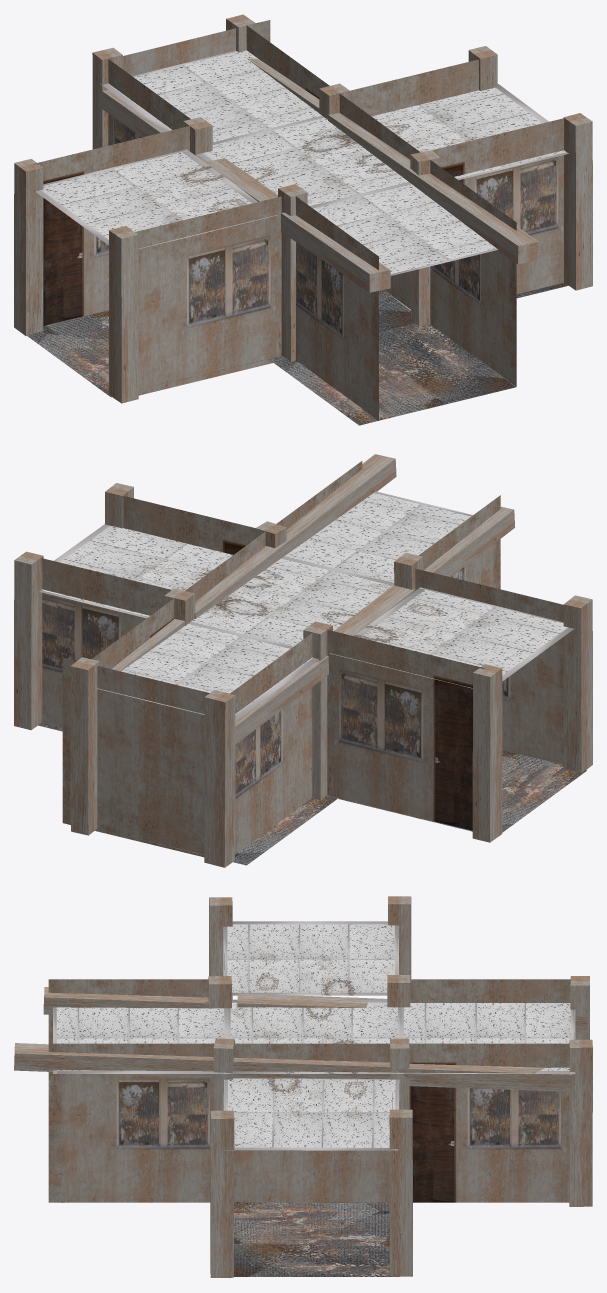
File: left.gltf
The picture shows the model from 3 angles, top to bottom: view 1: azimuth 30°, elevation 25°; view 2: azimuth 150°, elevation 25°; view 3: azimuth 270°, elevation 25°; orthographic projection. The views are drawn at different scales.
Parts seen in each view (by area): view 1: center_left_back_wall.001, front_left_wall, center_right_back_wall, cieling_center_left, floor_front, center_left_back_wall, cieling_center, front_right_wall, cieling_back, cieling_front, cieling_center_right, center_pillar_left.001 (+22 smaller); view 2: center_left_back_wall, back_pannel, back_left_wall, cieling_center_left, center_right_back_wall.001, cieling_center, center_left_back_wall.001, cieling_front, cieling_back, cieling_center_right, back_left_pillar, center_left_pillar.001 (+21 smaller); view 3: front_right_wall, back_right_wall, cieling_center_left, cieling_center_right, floor_center_right, center_right_panel, cieling_back, cieling_center, cieling_front, center_pillar_left.002, front_right_support_beam, center_left_pillar.002 (+14 smaller).
Boxes of the visible parts, left/top/right/bottom form: center_left_back_wall.001: left=135, top=196, right=281, bottom=395; front_left_wall: left=296, top=196, right=378, bottom=420; center_right_back_wall: left=432, top=118, right=563, bottom=293; cieling_center_left: left=35, top=149, right=276, bottom=249; floor_front: left=268, top=323, right=515, bottom=425; center_left_back_wall: left=33, top=126, right=189, bottom=325; cieling_center: left=197, top=116, right=410, bottom=206; front_right_wall: left=430, top=160, right=516, bottom=386; cieling_back: left=100, top=50, right=322, bottom=142; cieling_front: left=311, top=183, right=498, bottom=275; cieling_center_right: left=371, top=83, right=568, bottom=180; center_pillar_left.001: left=109, top=226, right=138, bottom=403; center_left_back_wall: left=327, top=629, right=484, bottom=830; back_pannel: left=62, top=657, right=209, bottom=857; back_left_wall: left=230, top=633, right=312, bottom=854; cieling_center_left: left=330, top=587, right=574, bottom=688; center_right_back_wall.001: left=42, top=558, right=171, bottom=727; cieling_center: left=189, top=557, right=413, bottom=647; center_left_back_wall.001: left=415, top=568, right=563, bottom=764; cieling_front: left=283, top=491, right=472, bottom=589; cieling_back: left=97, top=623, right=318, bottom=721; cieling_center_right: left=39, top=524, right=232, bottom=618; back_left_pillar: left=204, top=690, right=235, bottom=867; center_left_pillar.001: left=472, top=664, right=502, bottom=842; front_right_wall: left=48, top=1043, right=214, bottom=1202; back_right_wall: left=409, top=1043, right=569, bottom=1202; cieling_center_left: left=223, top=921, right=398, bottom=995; cieling_center_right: left=223, top=1078, right=399, bottom=1150; floor_center_right: left=234, top=1202, right=399, bottom=1276; center_right_panel: left=234, top=1043, right=389, bottom=1202; cieling_back: left=400, top=1003, right=575, bottom=1073; cieling_center: left=226, top=999, right=402, bottom=1073; cieling_front: left=53, top=1007, right=228, bottom=1073; center_pillar_left.002: left=210, top=1110, right=234, bottom=1277; front_right_support_beam: left=14, top=1043, right=213, bottom=1077; center_left_pillar.002: left=389, top=1109, right=412, bottom=1276.
Bounding box in the file's own units: 6.06 × 2.07 × 6.6.
11 materials, 11 textured.
